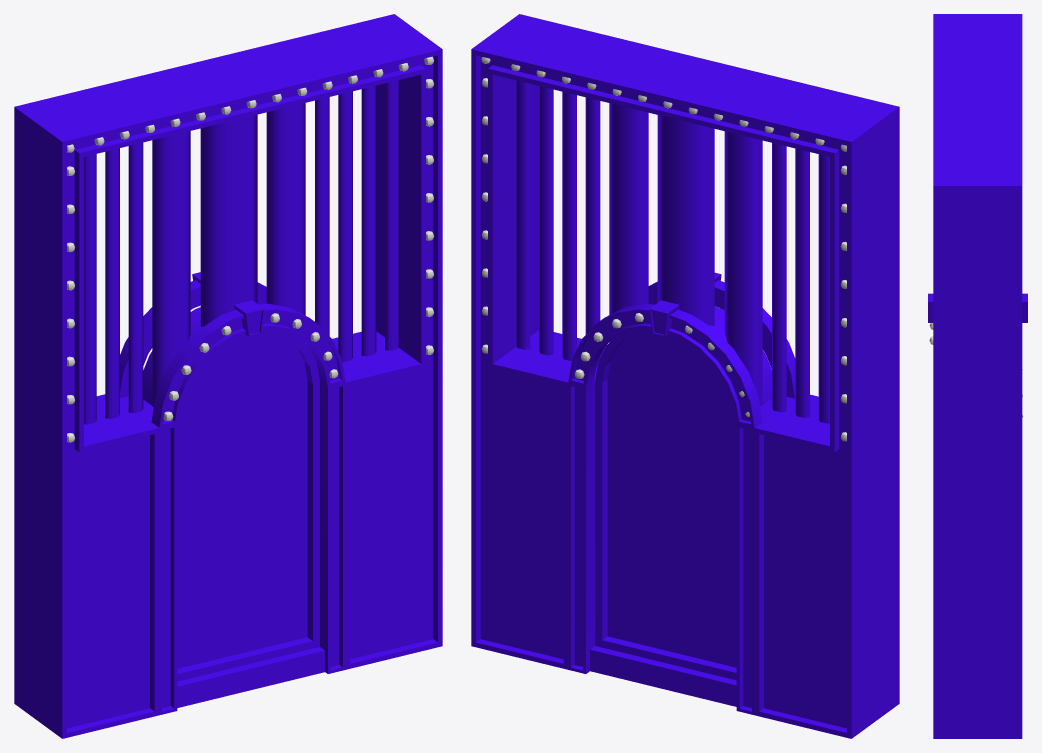
File: ShieldDoor.fbx
The picture shows the model from 3 angles, left to right: view 1: azimuth 30°, elevation 25°; view 2: azimuth 150°, elevation 25°; view 3: azimuth 270°, elevation 25°; orthographic projection. The views are drawn at different scales.
Parts seen in each view (by area): view 1: Rectangle001, Object002, Cylinder018, Cylinder003, Cylinder022, Cylinder016, Box044, Box009, Shape002; view 2: Rectangle001, Object002, Cylinder018, Cylinder003, Cylinder022, Cylinder016, Box046, Box045, Shape002; view 3: Rectangle001, Shape002.
Part boxes in pixels (bbox=[...]): Rectangle001: bbox=[14, 14, 442, 738]; Object002: bbox=[143, 307, 324, 707]; Cylinder018: bbox=[84, 80, 398, 424]; Cylinder003: bbox=[200, 114, 257, 326]; Cylinder022: bbox=[152, 131, 190, 406]; Cylinder016: bbox=[266, 103, 305, 315]; Box044: bbox=[67, 56, 433, 442]; Box009: bbox=[67, 63, 433, 404]; Shape002: bbox=[192, 272, 264, 336]; Rectangle001: bbox=[471, 14, 899, 738]; Object002: bbox=[590, 306, 771, 706]; Cylinder018: bbox=[516, 80, 829, 423]; Cylinder003: bbox=[657, 115, 714, 325]; Cylinder022: bbox=[724, 131, 762, 405]; Cylinder016: bbox=[609, 103, 648, 342]; Box046: bbox=[481, 57, 846, 441]; Box045: bbox=[481, 64, 846, 403]; Shape002: bbox=[649, 272, 721, 336]; Rectangle001: bbox=[933, 14, 1022, 738]; Shape002: bbox=[928, 293, 1027, 322].
Size of the model in its own units: 122 by 184 by 29.98.
